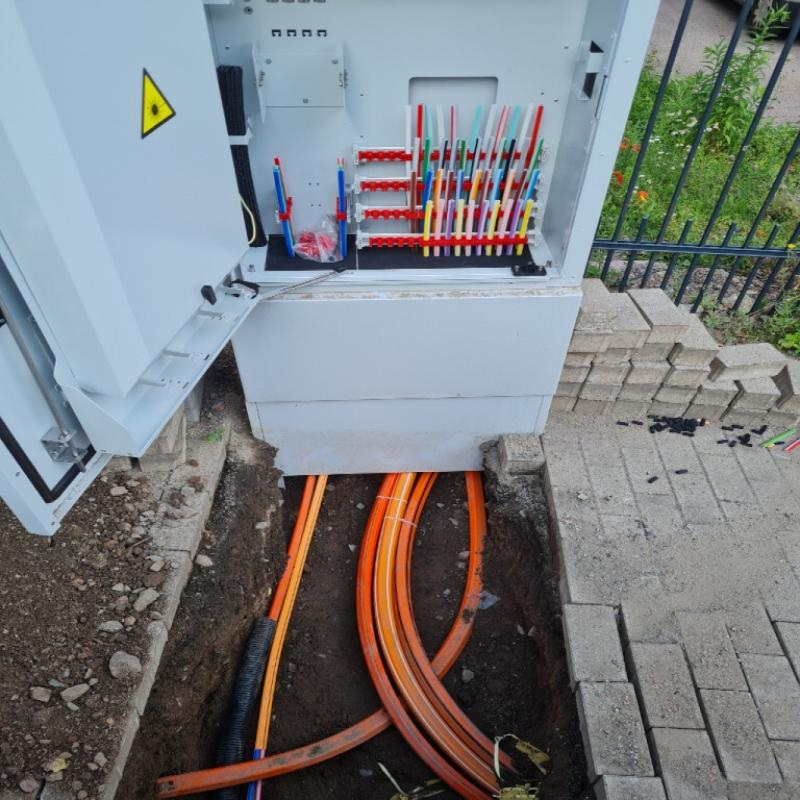NT-Gehause: (1, 0, 663, 536)
Orang-Speednetrohrchen: (155, 474, 528, 800)
